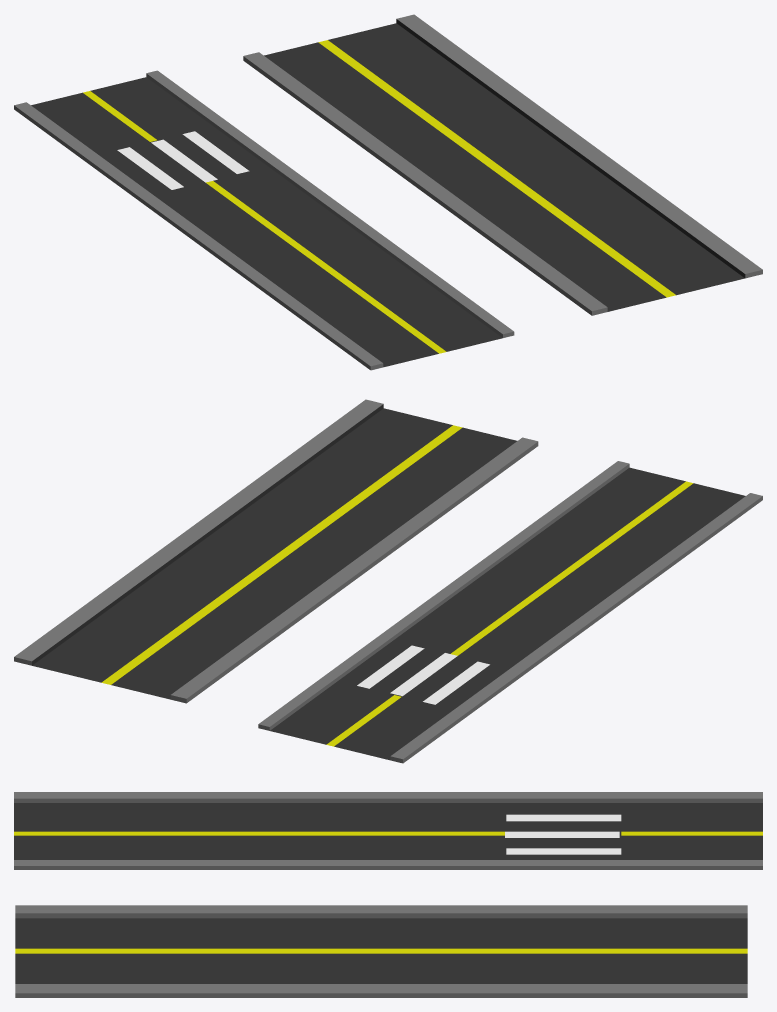
The model's file is Roads.fbx.
3 renders of one model, top to bottom at view 1: azimuth 30°, elevation 25°; view 2: azimuth 150°, elevation 25°; view 3: azimuth 270°, elevation 25°, orthographic. The views are drawn at different scales.
Visible parts, largest first — view 1: Roads for smokejumpers.001, Roads for smokejumpers; view 2: Roads for smokejumpers.001, Roads for smokejumpers; view 3: Roads for smokejumpers.001, Roads for smokejumpers.
Boxes of the visible parts, x1=… form: Roads for smokejumpers.001: x1=243, y1=14, x2=762, y2=315; Roads for smokejumpers: x1=14, y1=70, x2=514, y2=370; Roads for smokejumpers.001: x1=14, y1=399, x2=538, y2=703; Roads for smokejumpers: x1=258, y1=461, x2=762, y2=763; Roads for smokejumpers.001: x1=15, y1=905, x2=747, y2=997; Roads for smokejumpers: x1=14, y1=792, x2=762, y2=869.
Bounding box in the file's own units: 12903 × 144 × 20285.
